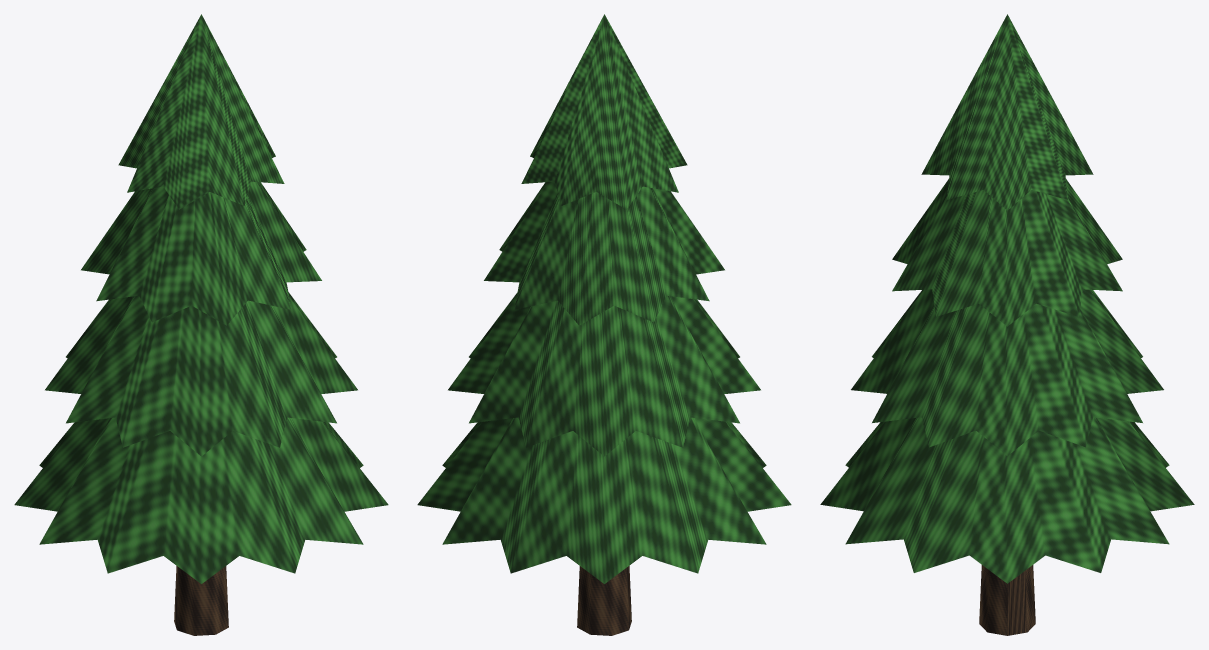
The model's file is duckov_pine_tree.obj.
The picture shows the model from 3 angles, left to right: view 1: azimuth 30°, elevation 25°; view 2: azimuth 150°, elevation 25°; view 3: azimuth 270°, elevation 25°; orthographic projection.
Visible parts, largest first — view 1: DuckovPineTree; view 2: DuckovPineTree; view 3: DuckovPineTree.
Part boxes in pixels (box(x1,y1,x2,y2)): DuckovPineTree: box(14, 14, 388, 635); DuckovPineTree: box(417, 14, 791, 635); DuckovPineTree: box(820, 14, 1194, 635).
Bounding box in the file's own units: 3.7 × 6.65 × 3.7.
Materials: 1 (1 with a texture image).
